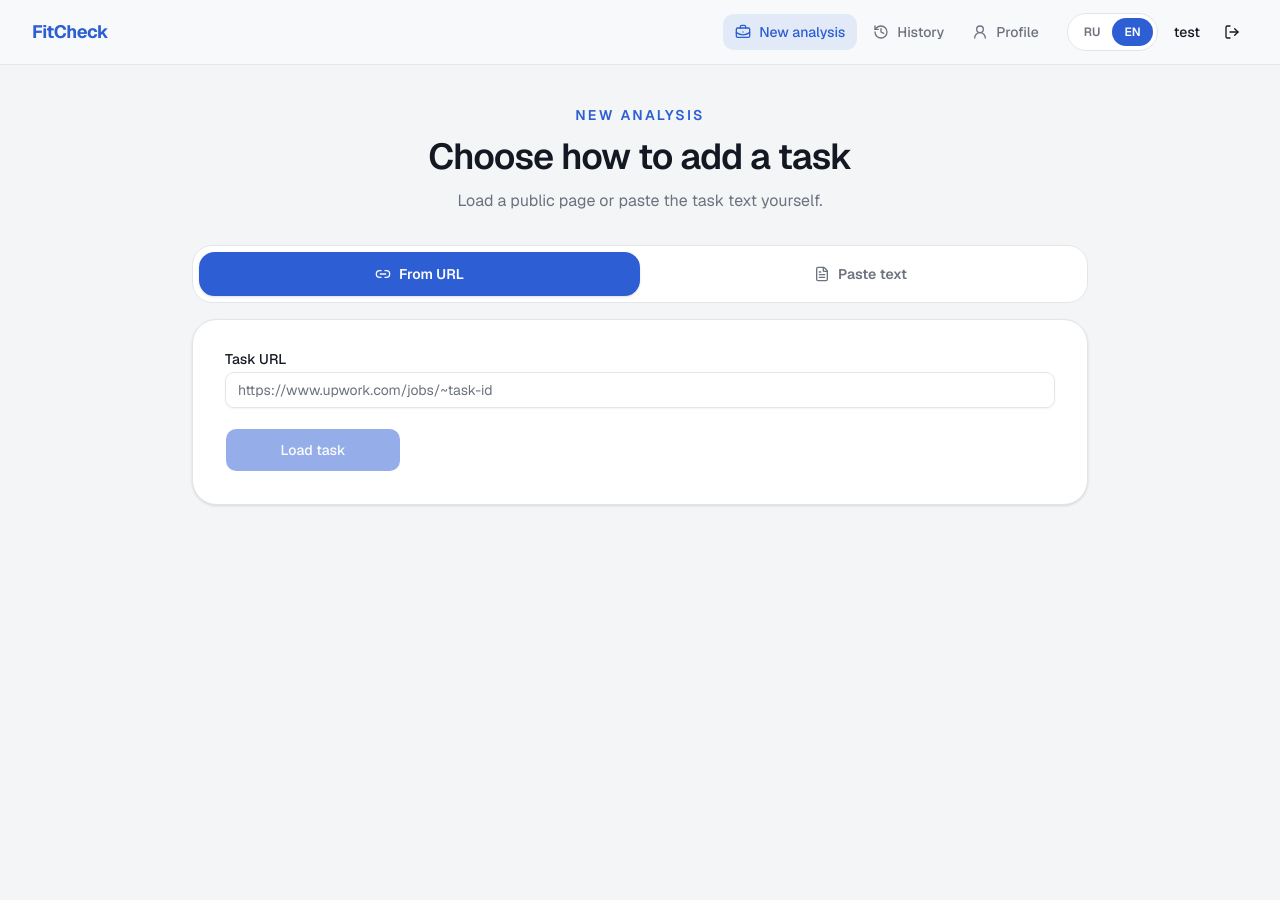
history profile revisions › returns to history after a failed reanalysis and preserves the original result
Click the button "History".
click(909, 32)  # box x1=861 y1=14 x2=956 y2=50
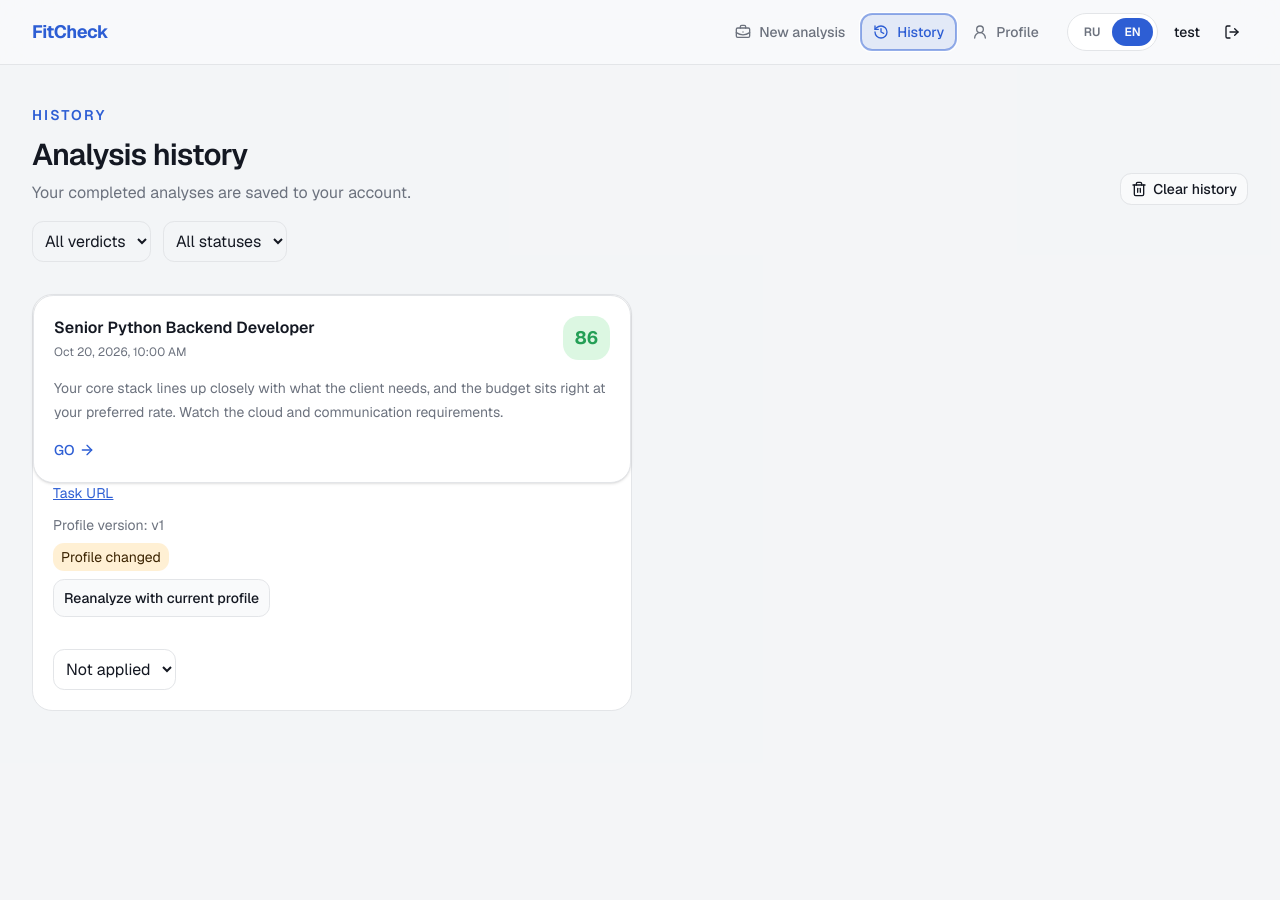
Click the button "Reanalyze with current profile".
click(162, 598)  # box x1=53 y1=579 x2=270 y2=617
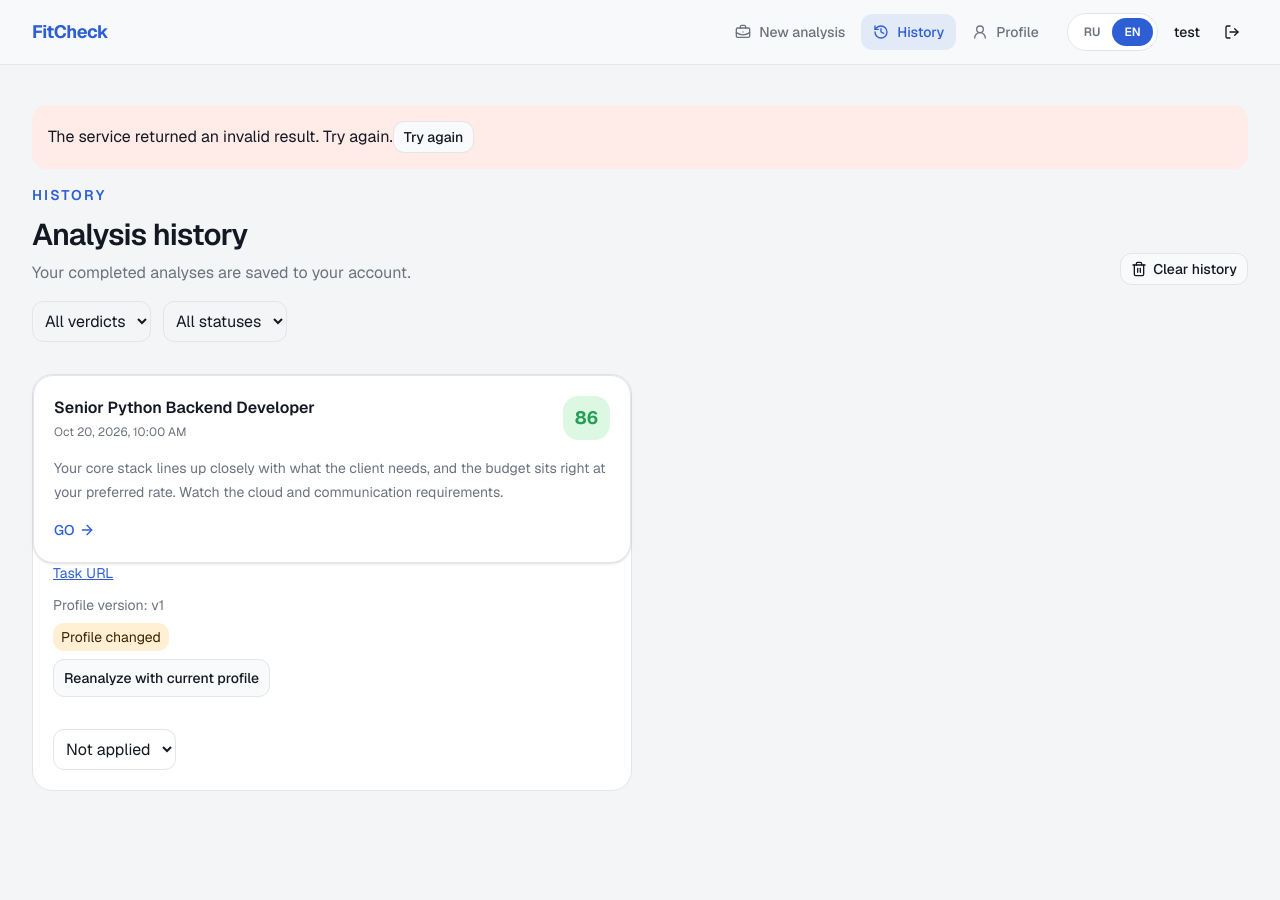
expect the heading "Analysis history" is shown: met, box x1=32 y1=215 x2=248 y2=254
expect the button with aria-label "Senior Python Backend Developer, 86" is shown: met, box x1=33 y1=375 x2=631 y2=563
expect the message shows "The service returned an invalid result. Try again.": met, box x1=48 y1=126 x2=393 y2=147
